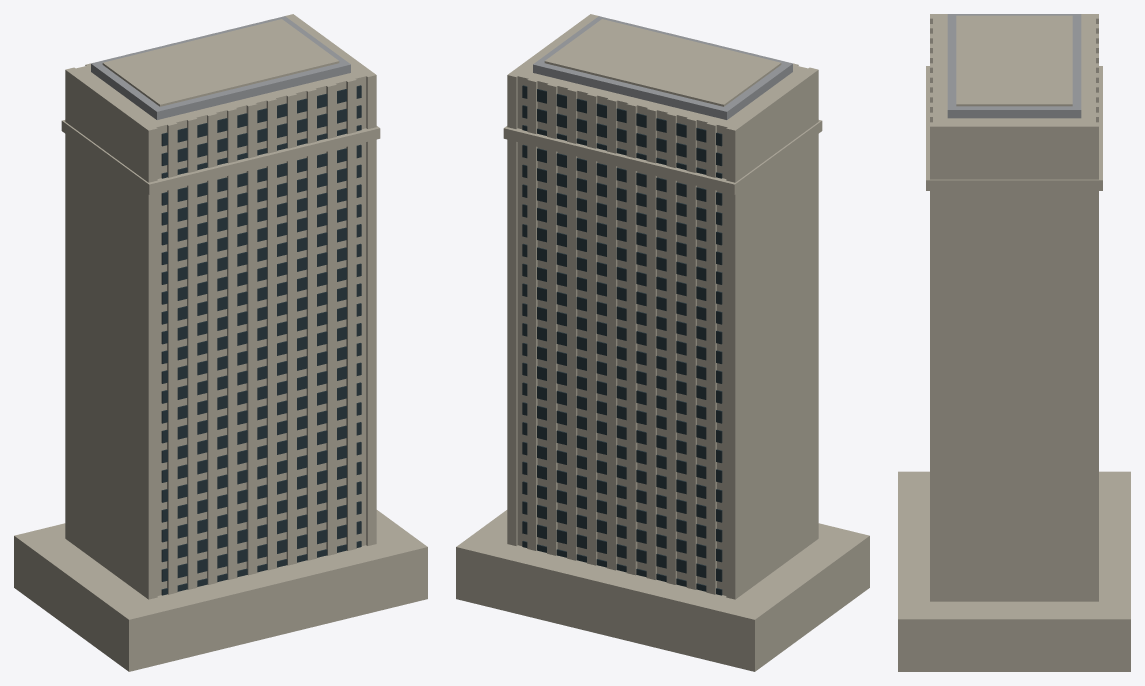
Rendered from office_tower_generic_a.glb.
The picture shows the model from 3 angles, left to right: view 1: azimuth 30°, elevation 25°; view 2: azimuth 150°, elevation 25°; view 3: azimuth 270°, elevation 25°; orthographic projection.
Parts seen in each view (by area): view 1: office_tower_generic_a; view 2: office_tower_generic_a; view 3: office_tower_generic_a.
Boxes of the visible parts, bbox=[...] form: office_tower_generic_a: bbox=[14, 14, 427, 671]; office_tower_generic_a: bbox=[456, 14, 869, 671]; office_tower_generic_a: bbox=[898, 14, 1130, 671].
Size of the model in its own units: 60 by 102 by 40.
